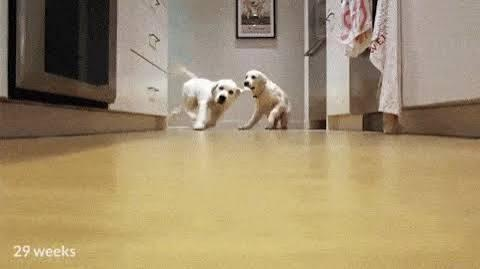puppy-dog: (166, 70, 239, 132), (237, 69, 291, 131)
